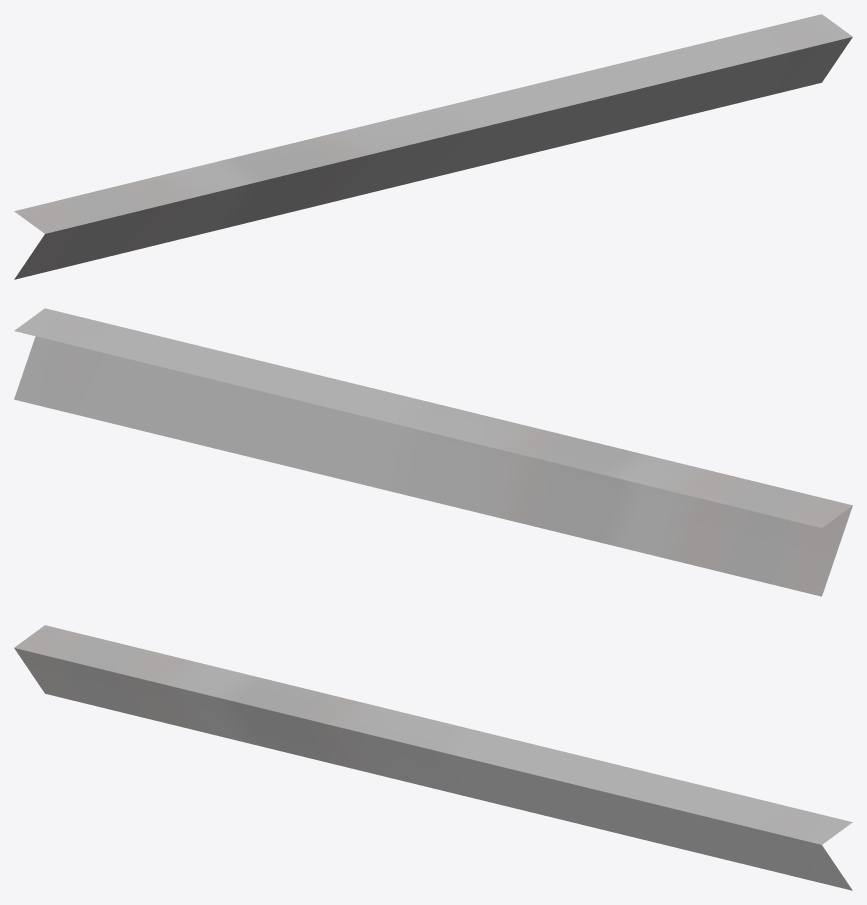
The model's file is ZierleisteKurz [Grau]_13.glb.
3 renders of one model, top to bottom at view 1: azimuth 30°, elevation 25°; view 2: azimuth 150°, elevation 25°; view 3: azimuth 330°, elevation 25°, orthographic.
Parts seen in each view (by area): view 1: polySurfaceShape1011; view 2: polySurfaceShape1011; view 3: polySurfaceShape1011.
Boxes of the visible parts, <box> form: polySurfaceShape1011: <box>14,14,852,279</box>; polySurfaceShape1011: <box>14,308,852,596</box>; polySurfaceShape1011: <box>14,625,852,890</box>.
Bounding box in the file's own units: 0.5 × 0.0406 × 0.0333.
Materials: 1 (1 with a texture image).
